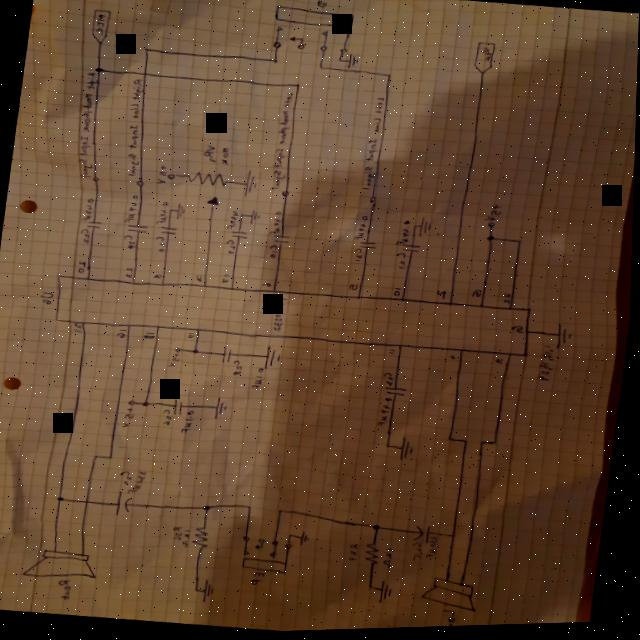capacitor: (114, 491, 137, 518), (412, 525, 434, 547), (384, 388, 408, 400), (229, 229, 250, 242), (400, 245, 422, 257), (273, 235, 292, 248), (126, 223, 148, 234), (358, 242, 377, 252), (222, 347, 232, 365), (86, 220, 102, 231), (159, 226, 177, 235), (174, 400, 184, 415)
crossover: (84, 499, 93, 506), (141, 72, 147, 77)
ground: (554, 324, 575, 354), (264, 345, 283, 372), (243, 170, 259, 197), (400, 438, 417, 463), (379, 581, 396, 606), (203, 579, 218, 605), (214, 397, 230, 421), (418, 218, 433, 241), (346, 54, 359, 71), (249, 209, 261, 227), (175, 203, 186, 222), (300, 532, 312, 548)
junction: (92, 67, 103, 74), (57, 495, 66, 503), (140, 46, 149, 54), (191, 348, 200, 356), (373, 526, 383, 533), (486, 237, 496, 244), (203, 505, 213, 512), (447, 438, 455, 445), (278, 509, 286, 516), (451, 535, 459, 542), (369, 585, 376, 593), (143, 401, 151, 408), (385, 444, 392, 451), (247, 505, 255, 511), (385, 74, 392, 80), (317, 66, 323, 73), (480, 442, 486, 449), (516, 241, 523, 247), (109, 455, 115, 461), (464, 440, 470, 446), (94, 454, 100, 460), (493, 443, 499, 449), (195, 588, 201, 594), (271, 60, 277, 65), (294, 84, 300, 89), (289, 534, 294, 539), (240, 214, 245, 219), (412, 226, 417, 230), (168, 209, 173, 213), (336, 59, 340, 63)
resistor: (184, 170, 229, 209), (364, 544, 383, 570), (193, 527, 212, 551)
terminal: (267, 3, 356, 58), (238, 534, 298, 579), (86, 7, 111, 46), (471, 43, 497, 77), (367, 197, 377, 206), (166, 173, 175, 181), (128, 400, 138, 407), (486, 224, 496, 231), (174, 347, 183, 354), (280, 191, 289, 198), (91, 175, 98, 182), (136, 181, 143, 186)
text: (71, 71, 107, 180), (120, 78, 151, 177), (269, 93, 296, 193), (359, 97, 385, 193), (537, 346, 558, 385), (272, 297, 288, 334), (128, 469, 149, 497), (378, 398, 395, 430), (394, 221, 412, 249), (267, 211, 284, 238), (124, 193, 139, 223), (58, 578, 77, 601), (79, 197, 95, 224), (250, 366, 267, 391), (354, 216, 369, 244), (181, 410, 197, 436), (482, 205, 502, 225), (441, 610, 461, 629), (427, 537, 442, 562), (226, 210, 241, 233), (392, 254, 409, 273), (348, 544, 364, 564), (122, 408, 137, 429), (157, 201, 170, 225), (202, 145, 218, 164), (93, 13, 106, 36), (412, 544, 426, 564), (385, 548, 397, 571), (155, 164, 168, 185), (123, 234, 139, 251), (218, 148, 232, 167), (253, 572, 269, 588), (38, 290, 55, 305), (78, 227, 92, 245), (120, 470, 134, 486), (224, 239, 237, 256), (509, 326, 527, 338), (382, 373, 396, 388), (162, 409, 174, 426), (232, 360, 244, 377), (154, 236, 166, 253), (173, 526, 185, 543), (478, 49, 490, 66), (183, 529, 193, 549), (168, 353, 181, 368), (352, 249, 364, 265), (268, 245, 278, 261), (435, 291, 448, 303), (76, 260, 87, 274), (502, 294, 513, 308), (391, 288, 403, 300), (314, 0, 328, 10), (143, 331, 157, 340), (220, 274, 231, 285), (117, 329, 128, 340), (124, 267, 134, 279), (260, 281, 273, 290), (73, 323, 84, 333), (185, 332, 197, 341), (347, 284, 359, 293), (386, 349, 398, 358), (472, 292, 483, 301), (195, 275, 204, 284), (494, 360, 505, 367), (448, 357, 459, 364), (152, 273, 163, 280)
